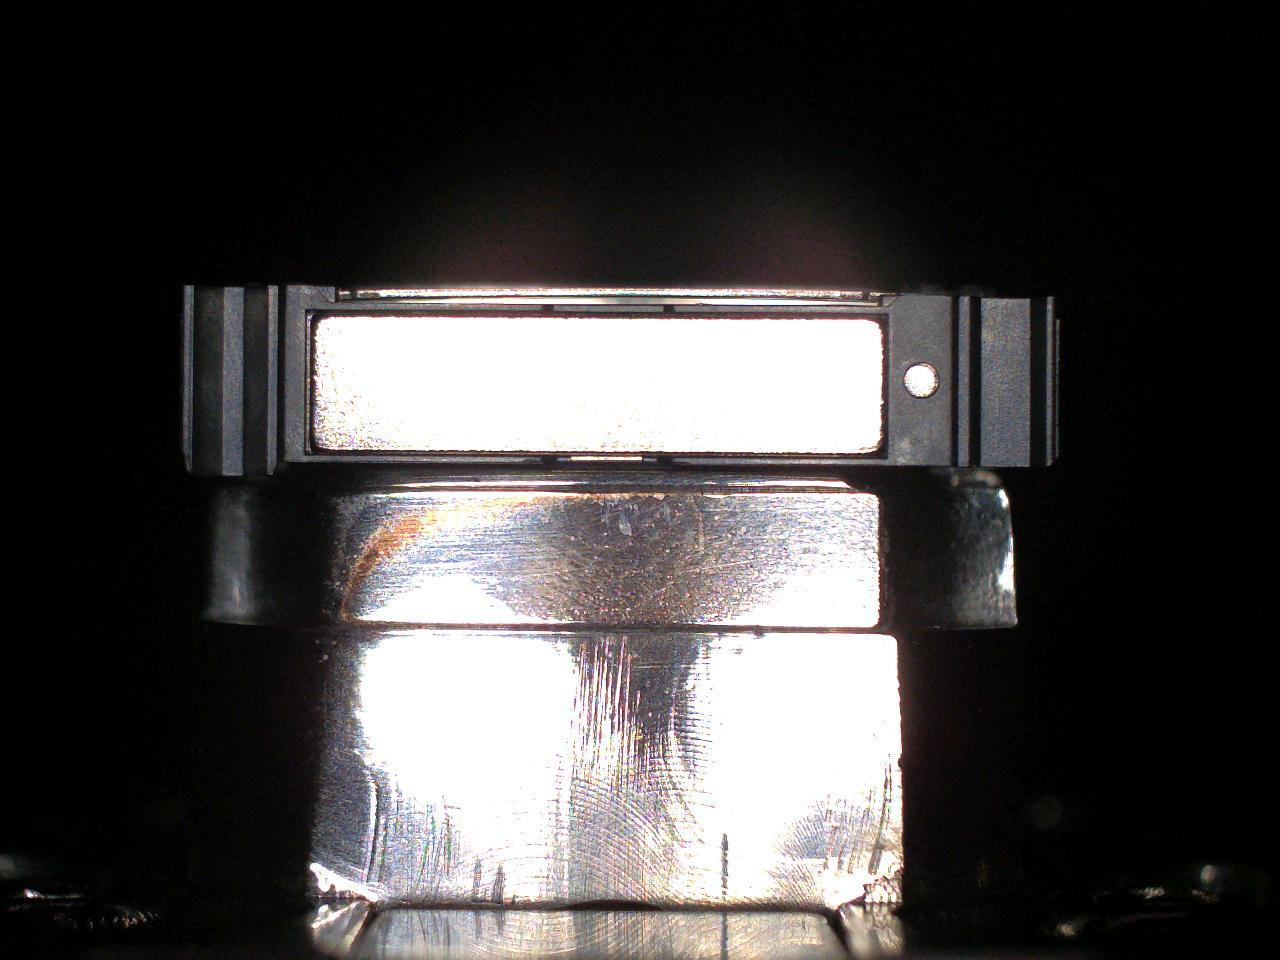frame: (181, 285, 1059, 476)
gap: (676, 313, 888, 322), (309, 450, 543, 458), (672, 452, 889, 459), (306, 312, 542, 318), (554, 312, 662, 320), (557, 452, 657, 459)
magnetic: (311, 316, 884, 455)
